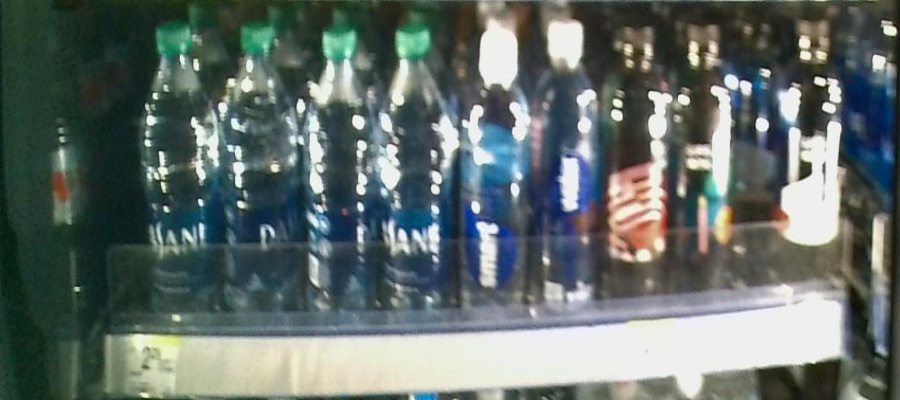bottle: (141, 20, 222, 337), (226, 14, 300, 333), (376, 28, 452, 325), (461, 20, 533, 315), (305, 21, 370, 339), (539, 25, 603, 324), (609, 29, 670, 305), (677, 20, 734, 293), (783, 19, 834, 281)
